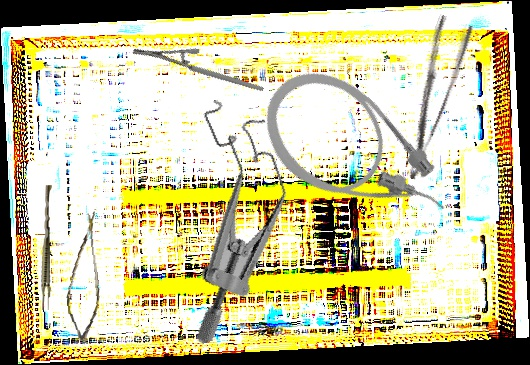Cannula: (241, 48, 468, 263)
Dressing Forceps: (381, 13, 477, 182)
Micro Scissor: (56, 211, 111, 342)
Needle Holder: (131, 13, 265, 128)
Speculum: (128, 86, 326, 346)
Tissue Forceps: (41, 185, 52, 310)
